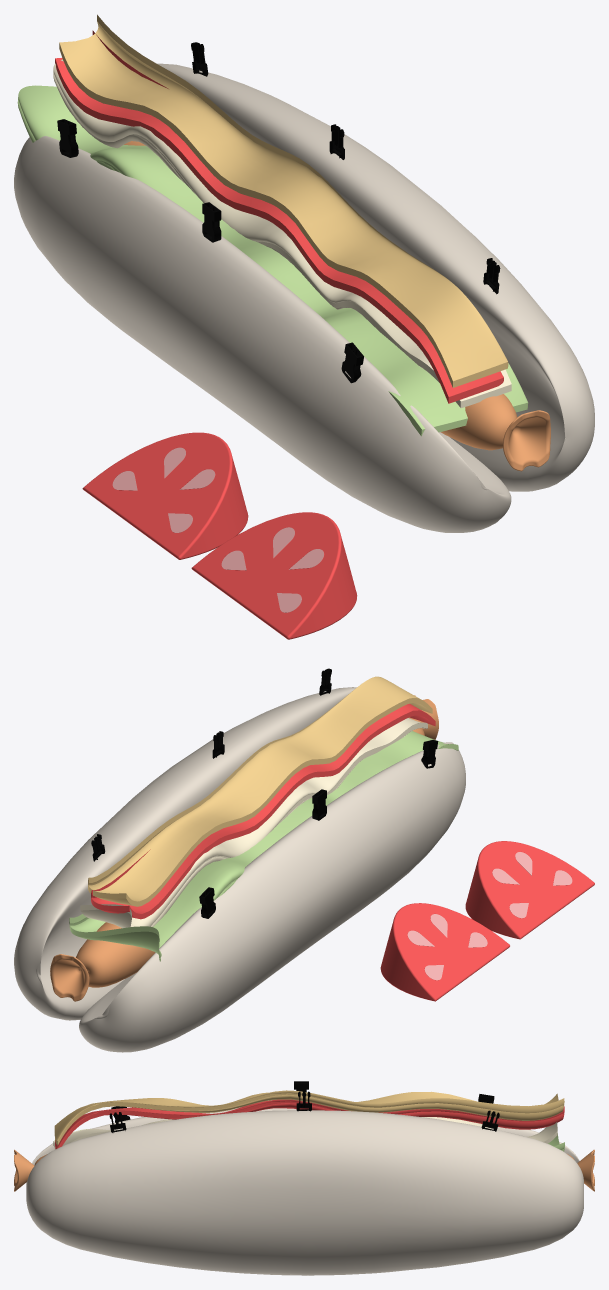
Rendered from completo2.glb.
3 renders of one model, top to bottom at view 1: azimuth 30°, elevation 25°; view 2: azimuth 150°, elevation 25°; view 3: azimuth 270°, elevation 25°, orthographic. The views are drawn at different scales.
Parts seen in each view (by area): view 1: Body3; view 2: Body3; view 3: Body3.
Boxes of the visible parts, x1=… form: Body3: x1=14, y1=14, x2=594, y2=639; Body3: x1=14, y1=668, x2=594, y2=1052; Body3: x1=14, y1=1081, x2=594, y2=1275.
Bounding box in the file's own units: 8.41 × 6.74 × 18.79.
